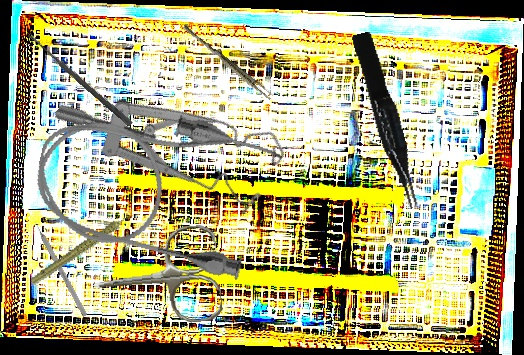Cannula: (23, 86, 286, 285)
Handpiece: (21, 212, 147, 287)
Hook Surgical: (30, 215, 88, 318)
Iris Scissors: (88, 223, 224, 333)
Speculum: (51, 18, 297, 251)
Surgical Spoon: (26, 32, 134, 127)
Tissue Forceps: (351, 29, 422, 213), (179, 23, 276, 101)
